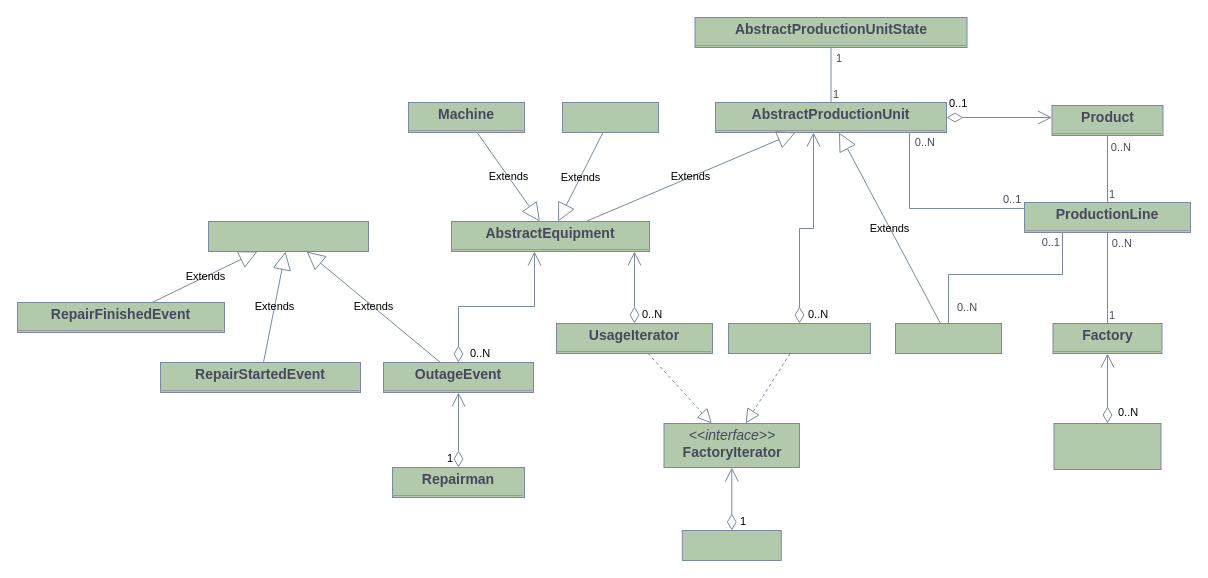
This 1208x578 diagram has some shape labels left out. Each missing label, with the centre of its shape:
"<<interface>> Report" goes at point 1107,446.
"AbstractEvent" goes at point 288,236.
"Robot" goes at point 610,117.
"TreeIterator" goes at point 799,338.
"Visitor" goes at point 731,545.
"Worker" goes at point 948,338.
